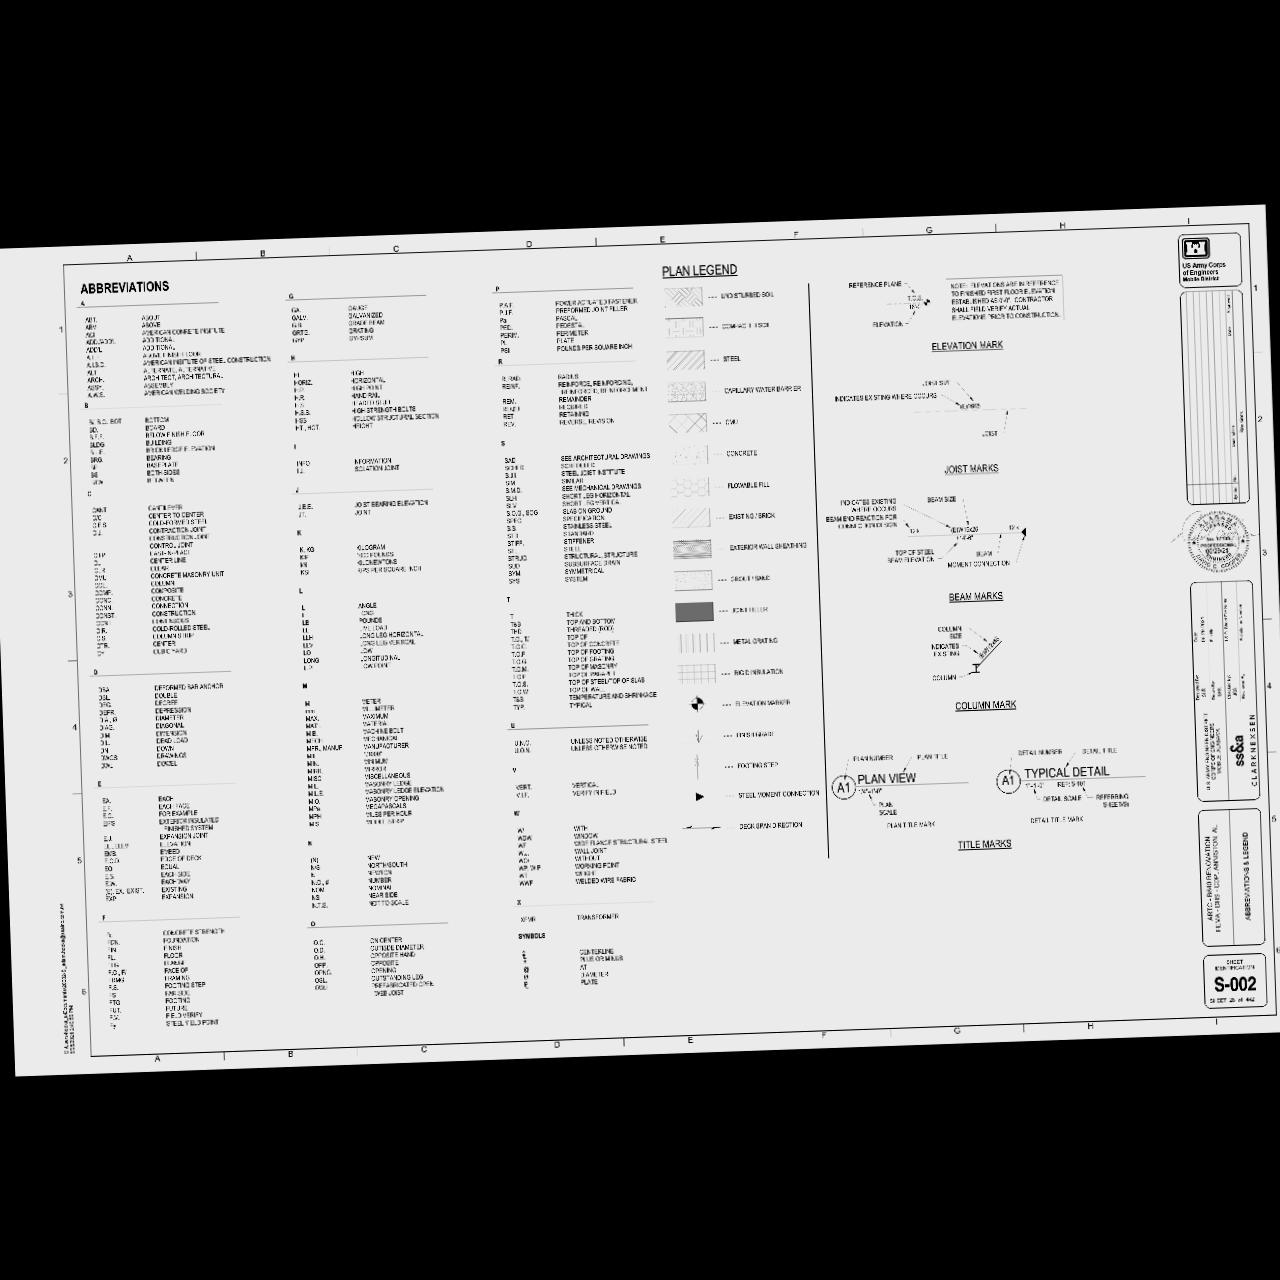title: (993, 760, 1150, 795), (828, 767, 972, 801)
